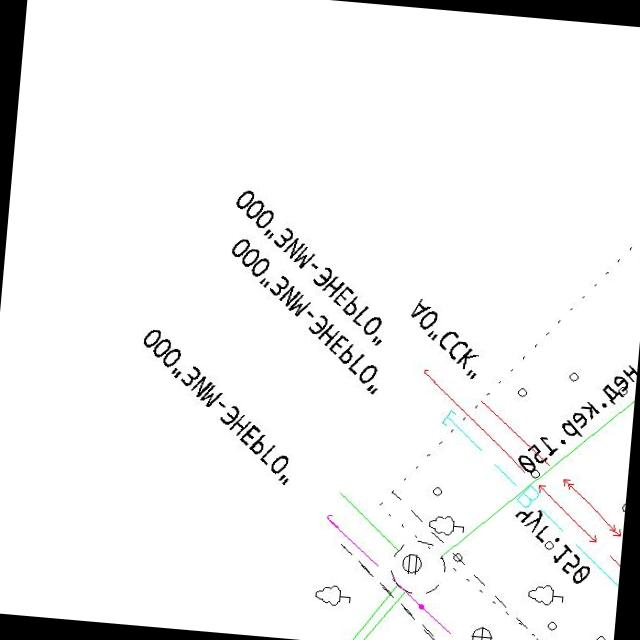tree: (526, 581, 566, 608), (312, 582, 353, 608), (426, 512, 466, 538)
well: (388, 536, 450, 598), (399, 551, 424, 576), (468, 623, 494, 640)
